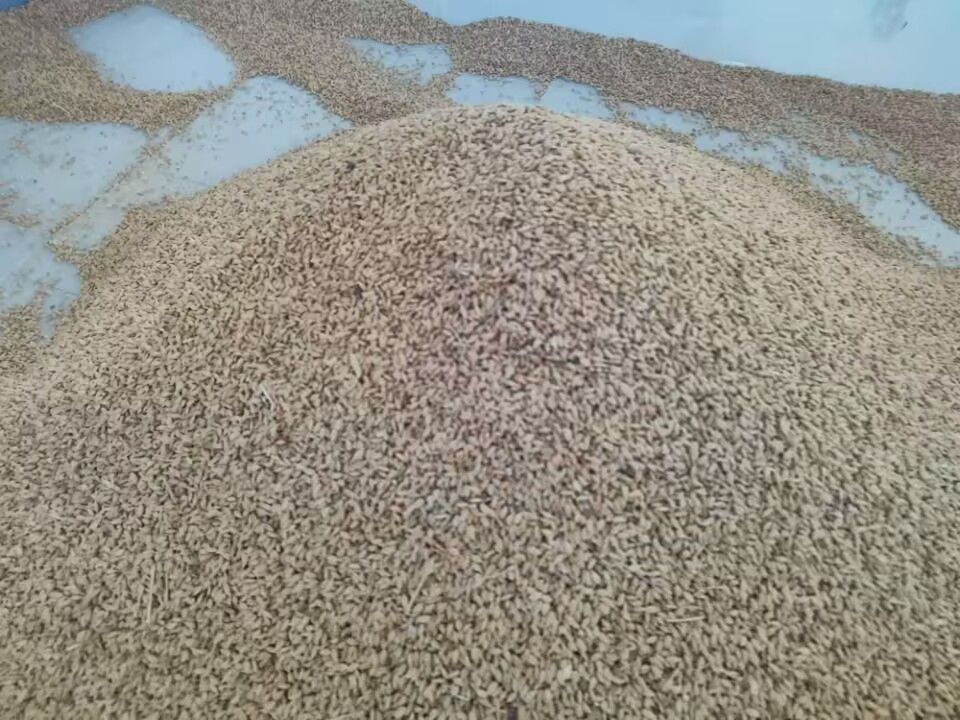Grain: (146, 99, 817, 664)
